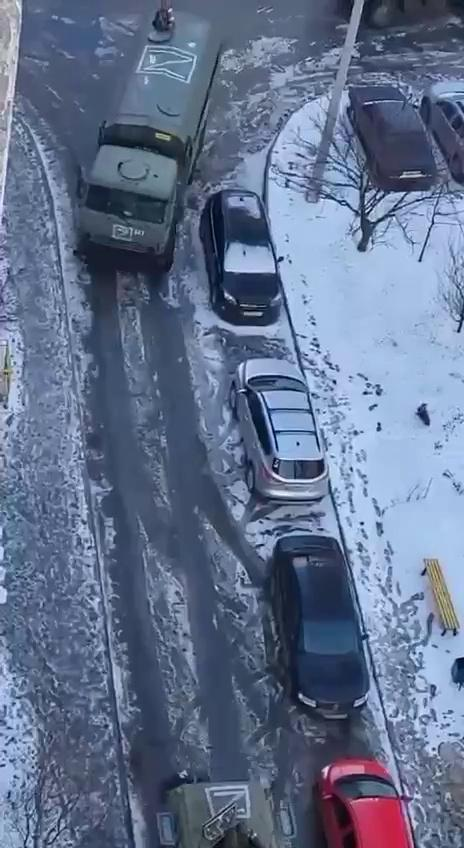armored_car: (152, 774, 303, 848)
car: (268, 534, 370, 721), (228, 358, 328, 506), (198, 187, 282, 323), (348, 83, 440, 192), (316, 757, 418, 848)
truck: (73, 13, 226, 270)
